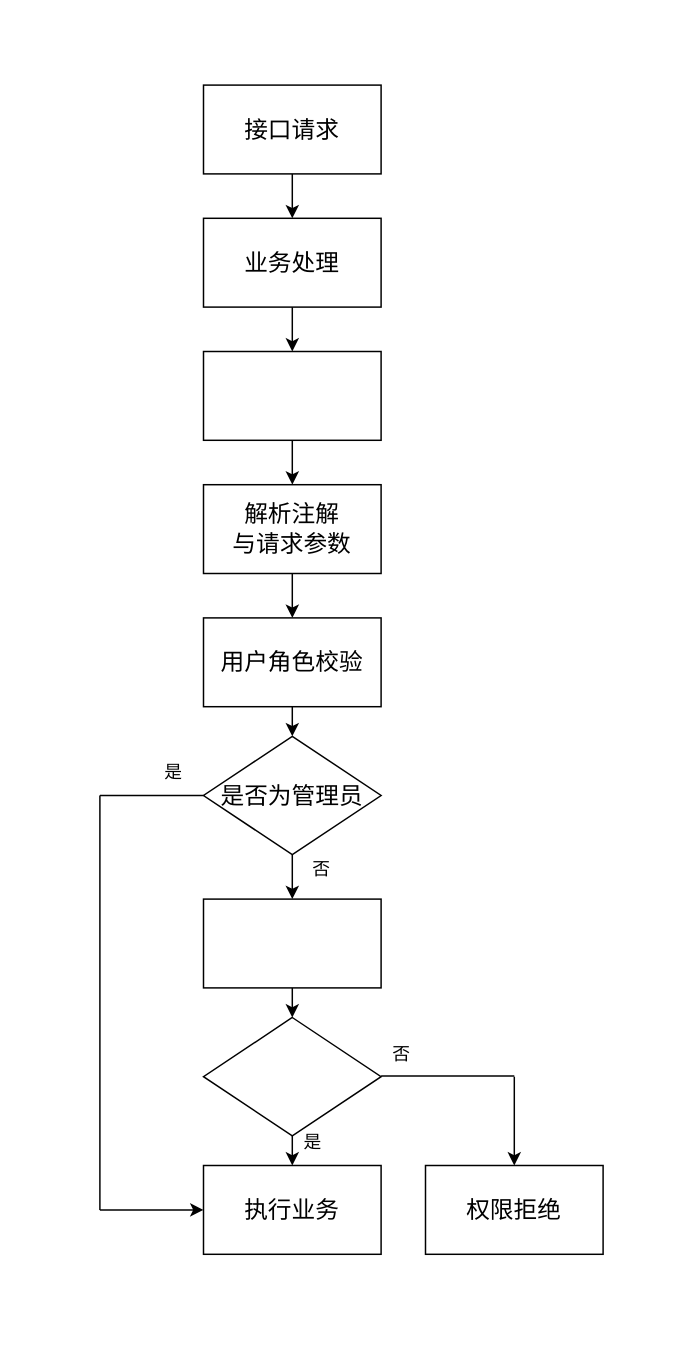
Some shapes in this 687 by 1353 pixel diagram are drawn without their labels. Here are the shapes that lost their labels. From the top down, the centre of each, then its label:
At (x=291, y=395): "AOP切面拦截".
At (x=291, y=943): "验证操作 资源所有权".
At (x=291, y=1076): "验证通过".
